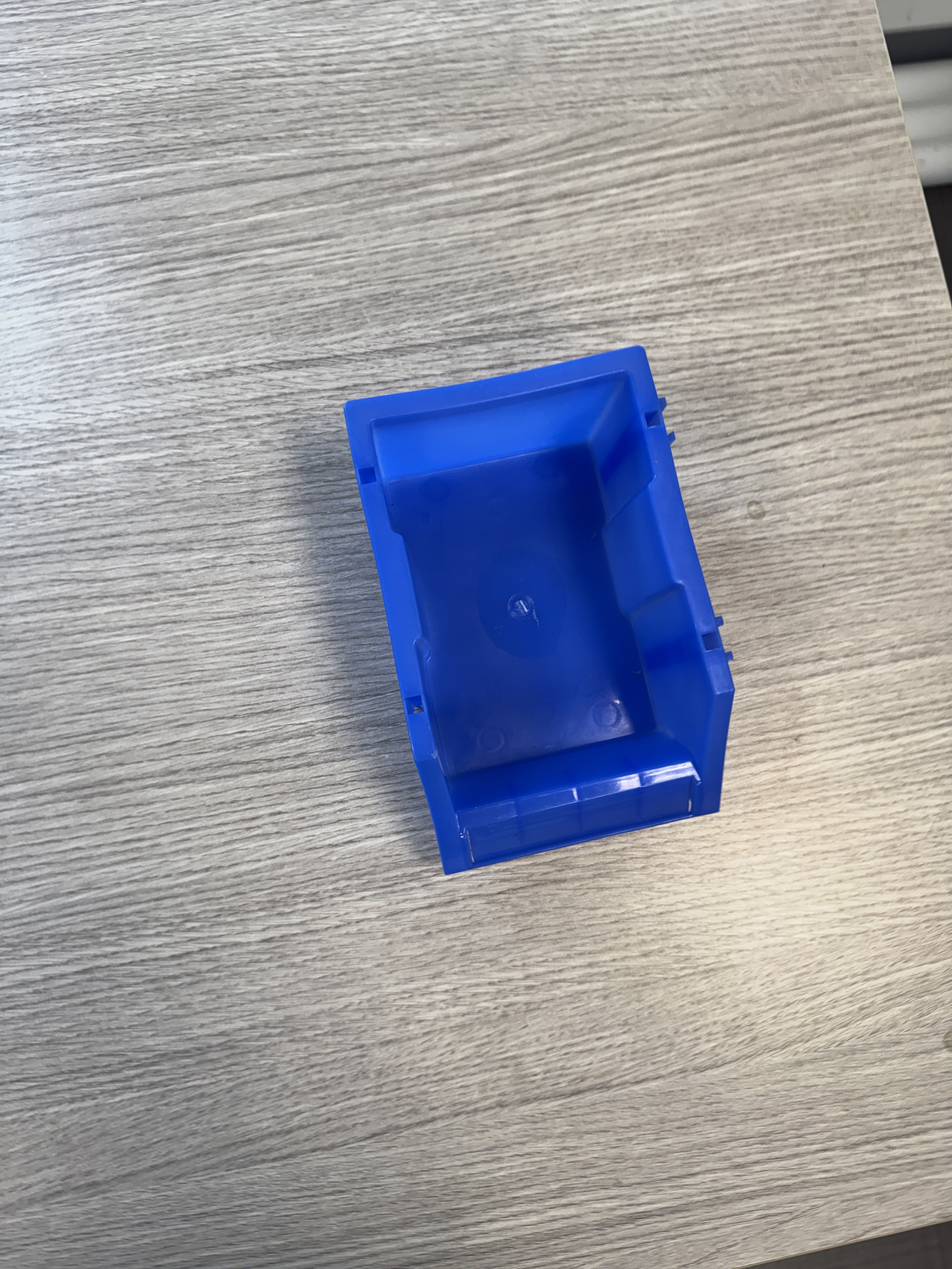Bin Boundary: (375, 373, 727, 815)
